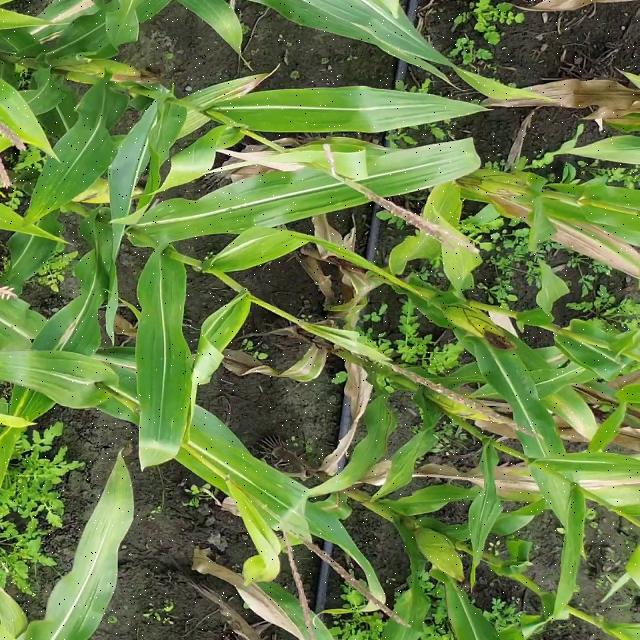northern-leaf-blight: (140, 68, 271, 146), (524, 371, 622, 444)
southern-leaf-blight: (112, 296, 191, 420), (114, 192, 257, 246), (9, 152, 84, 244)
